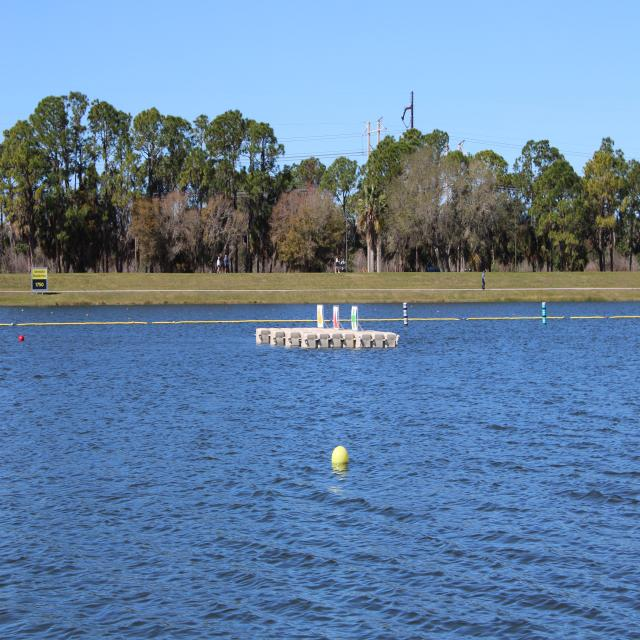blue-cross: (350, 304, 358, 334)
red-buoy: (17, 330, 25, 344)
red-dot: (334, 307, 339, 333)
yellow-buoy: (333, 443, 350, 464)
yellow-duck: (317, 306, 323, 332)
